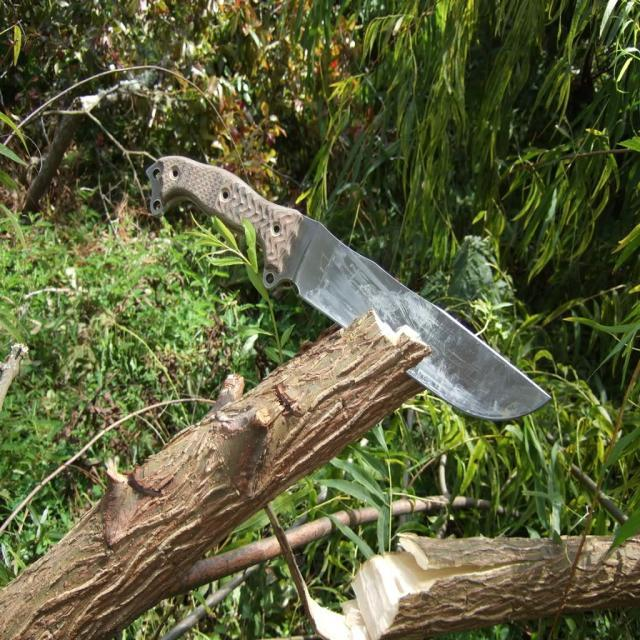Knife: (148, 156, 549, 419)
